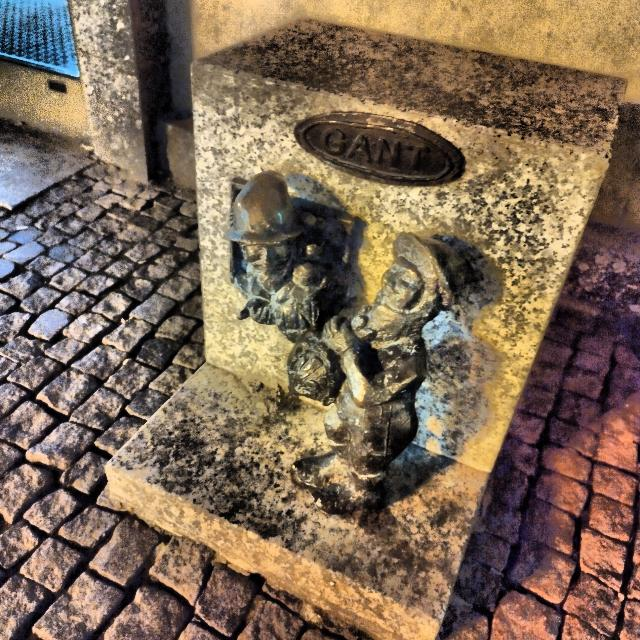Kantorki: (224, 171, 469, 515)
